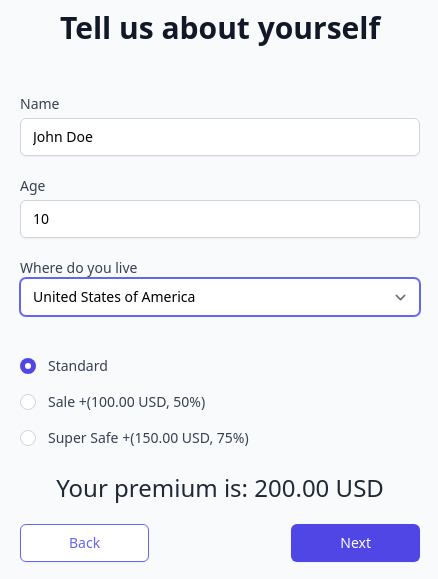
Test: Start Page Spec › Complete form inputs › US premium should be 300 for 10yrs old - sale
Click the radio button labelled "Sale +(100.00 USD, 50%)" at (28, 402), box [20,394,36,410]
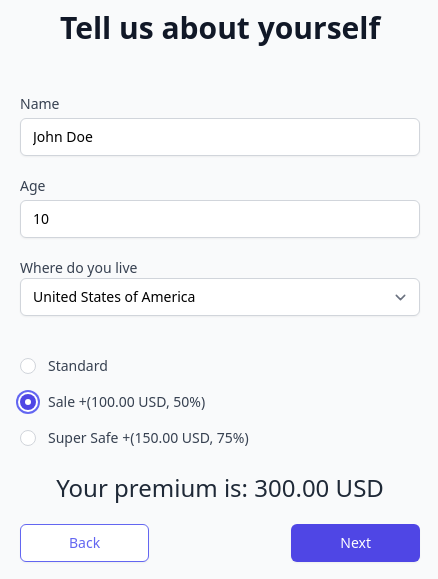
Now the heading "Your premium is: 300.00 USD" is shown, box [56,471,384,504]
